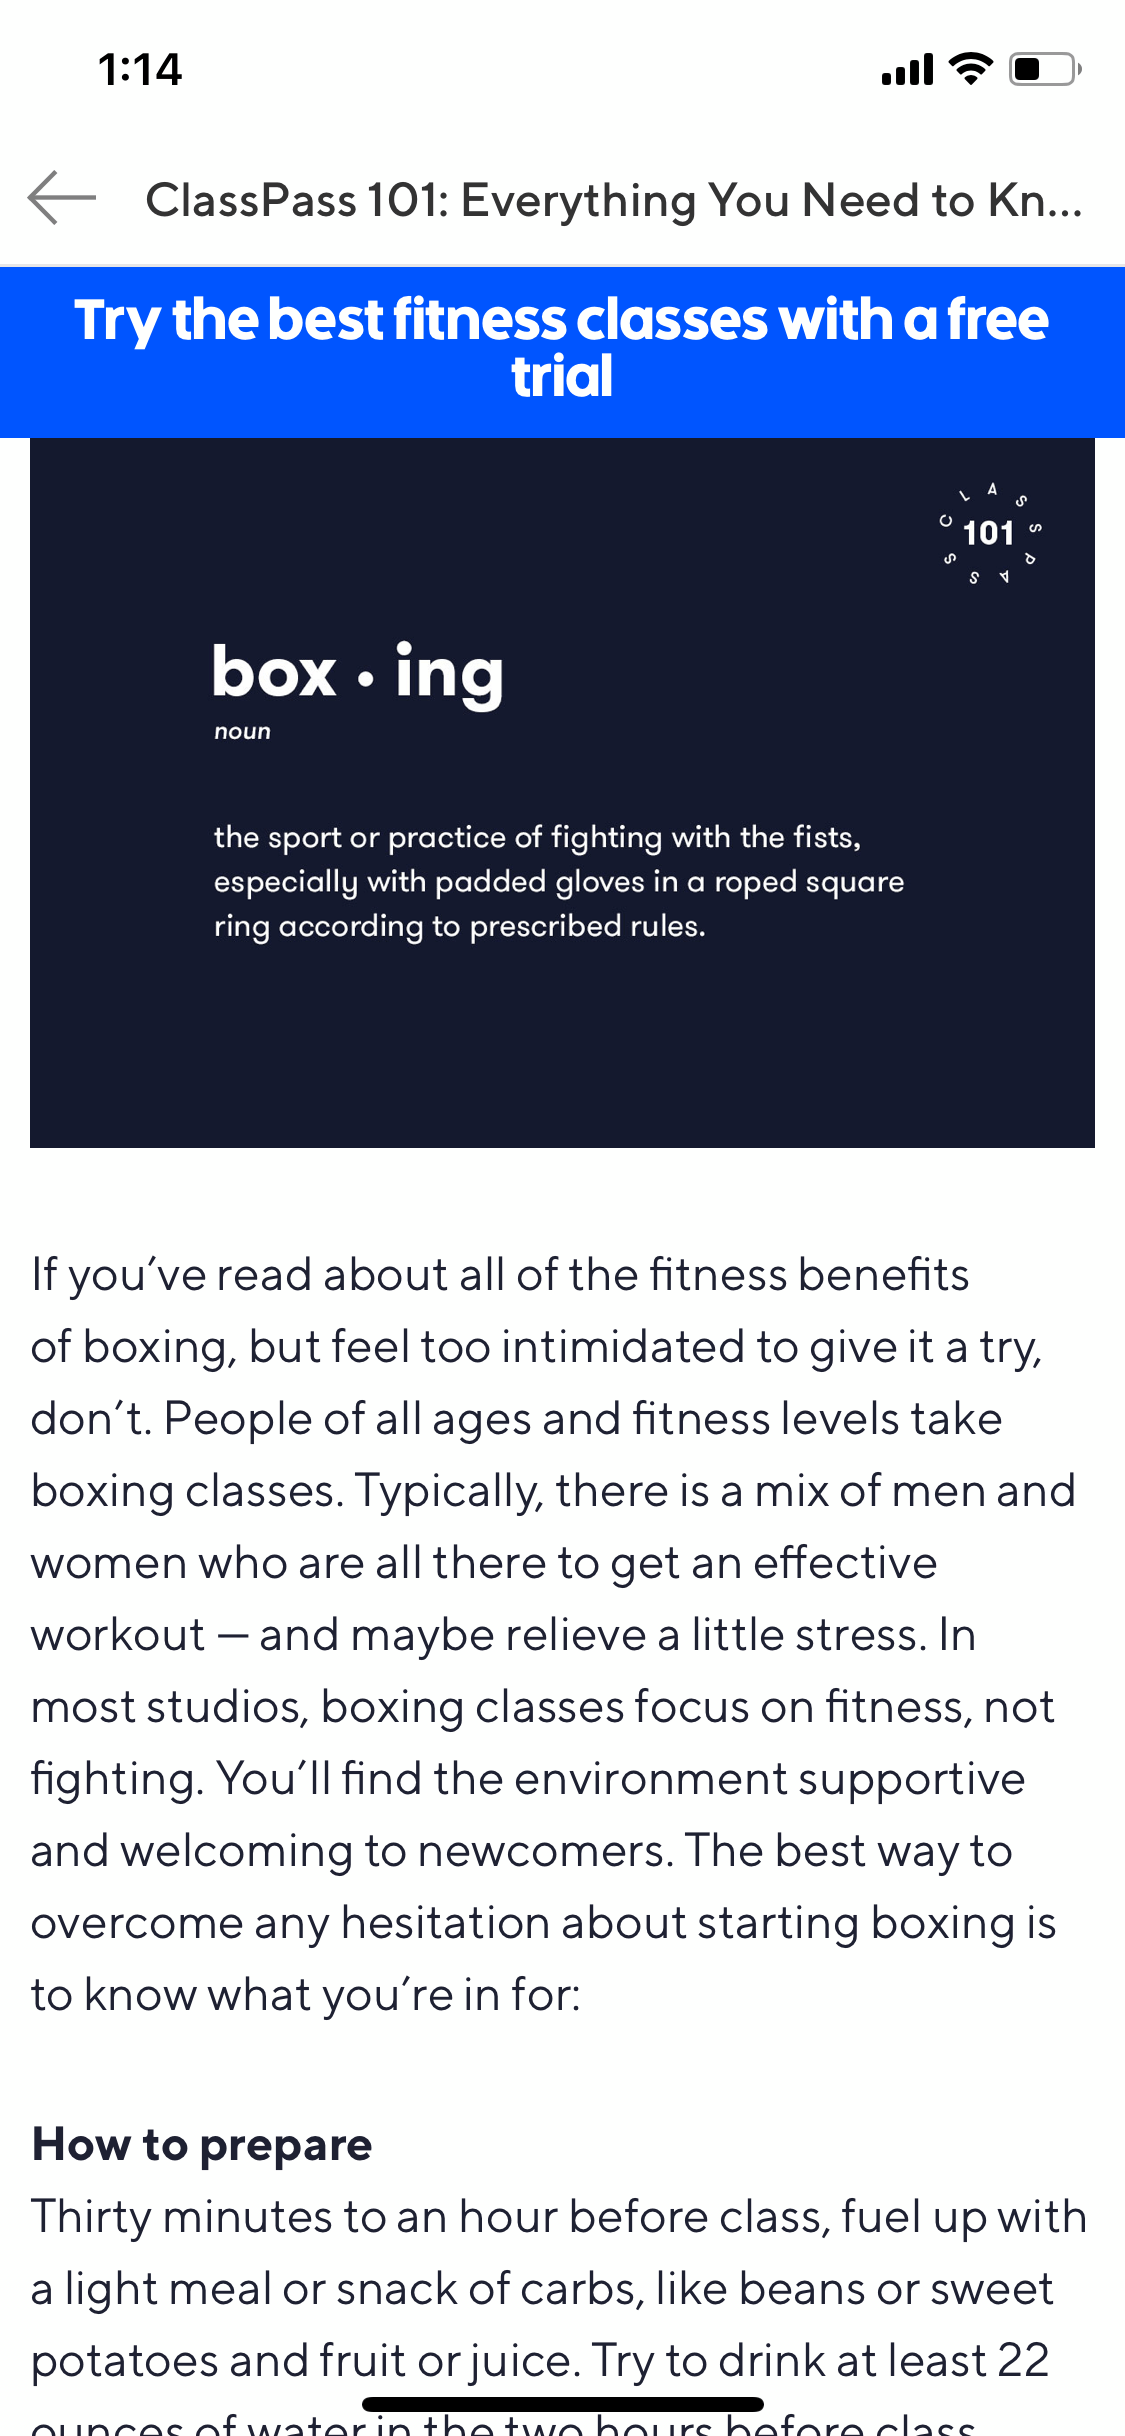Buttons: (2, 124, 131, 259)
